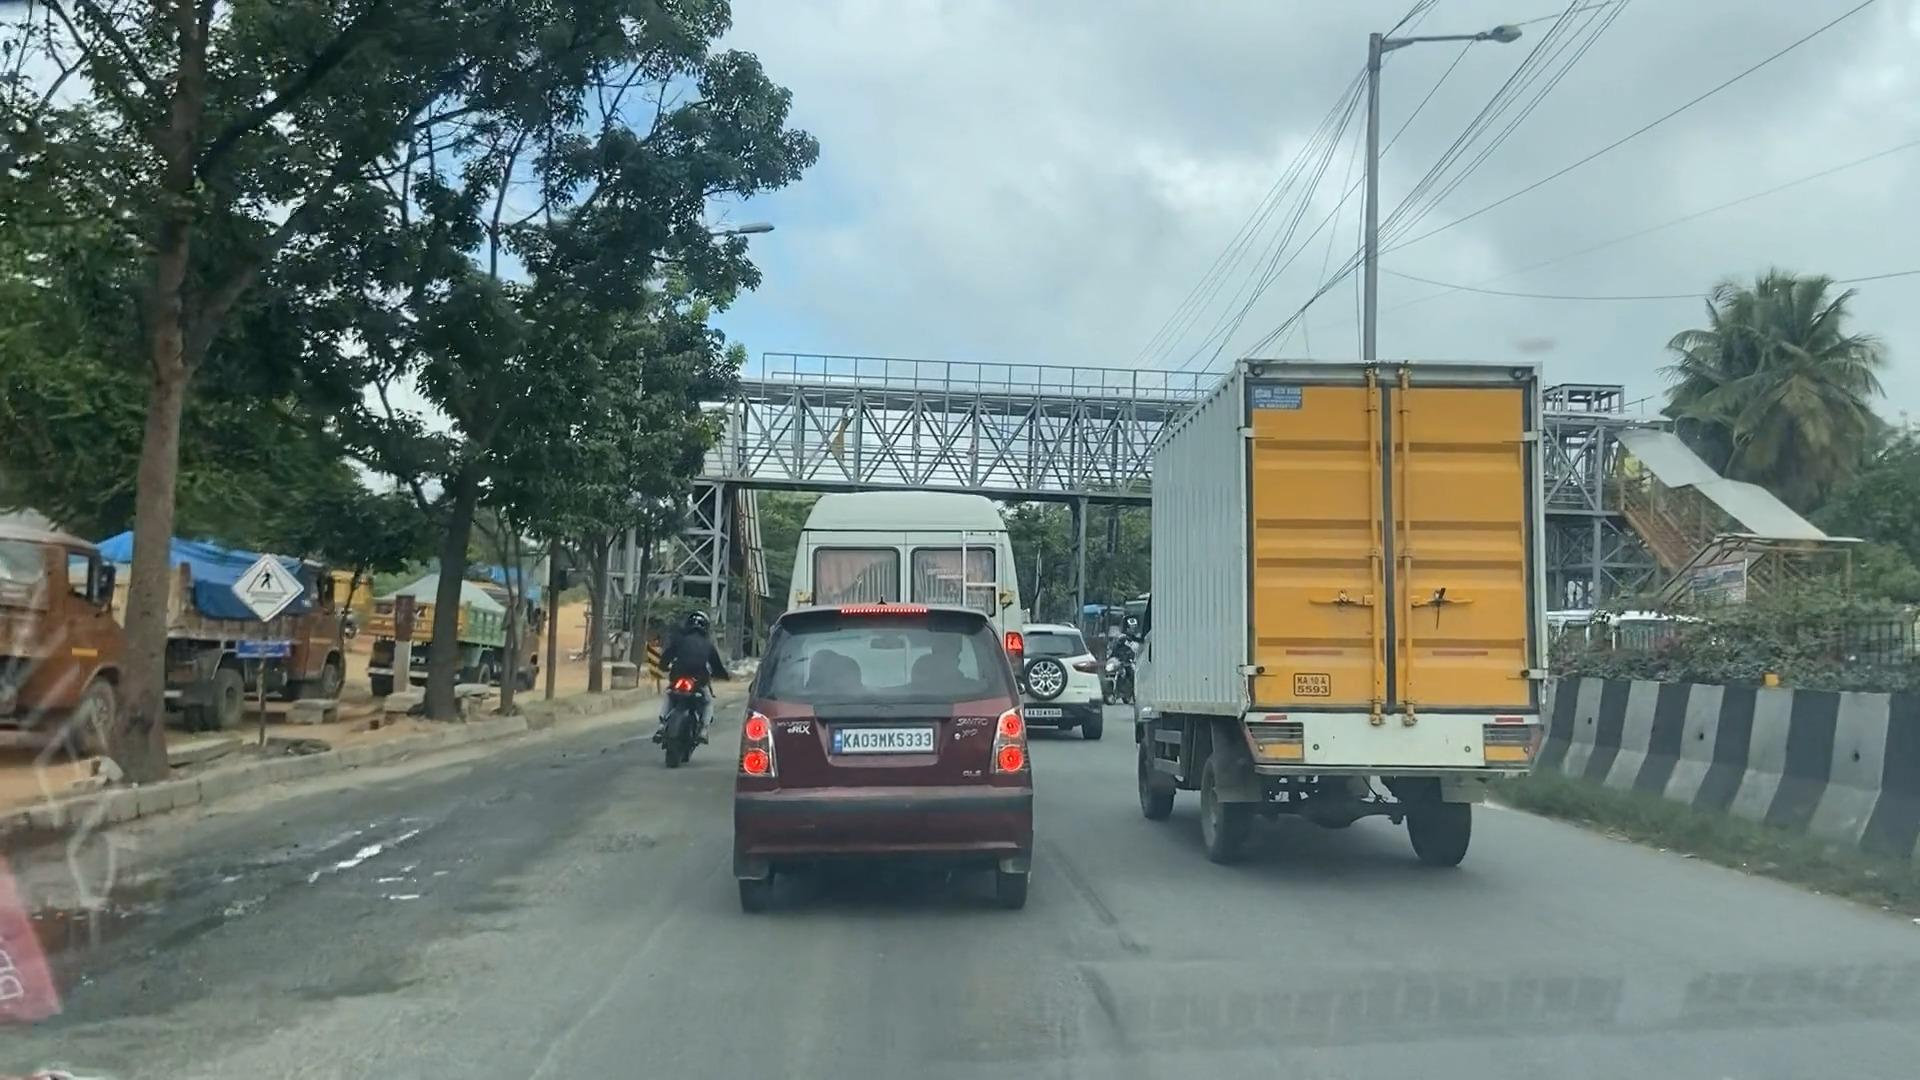HMV: (1114, 363, 1543, 862)
LMV: (744, 604, 1029, 914), (658, 612, 713, 758)
RoadDamages: (104, 767, 522, 972), (1071, 922, 1212, 1062)
UnsurfacedRoad: (537, 911, 684, 1056)
